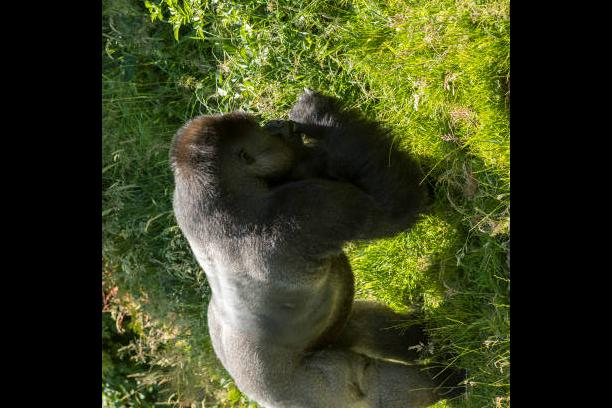gorille_Autres: (167, 41, 442, 408)
